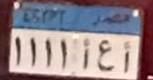1: (56, 32, 72, 71), (40, 27, 53, 71), (11, 35, 27, 68), (28, 35, 37, 68)
أ: (77, 34, 93, 72), (121, 39, 136, 74)
ع: (93, 32, 116, 74)
